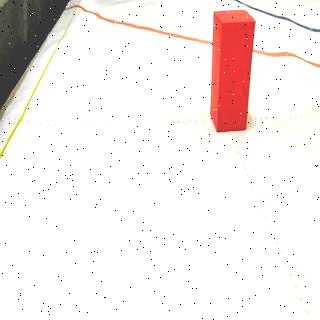redbox: (212, 8, 257, 133)
